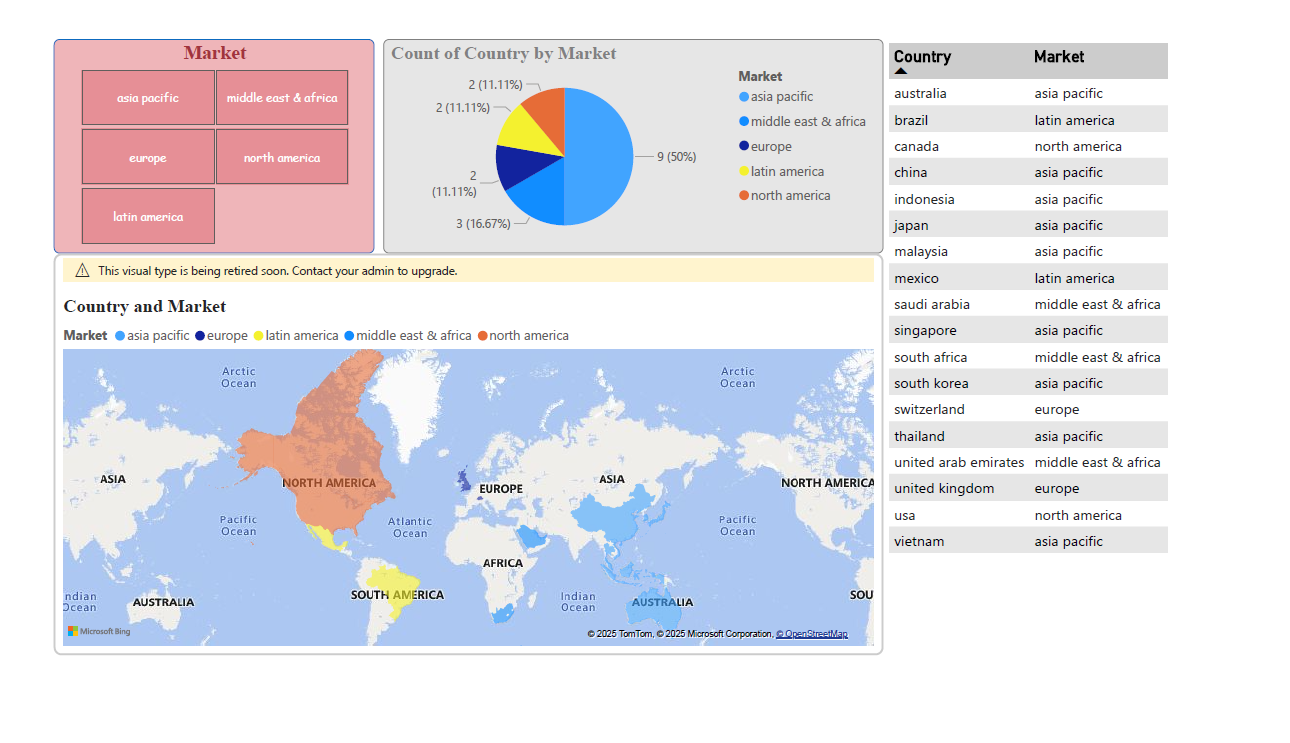

Layout of this report page (visuals, bound fields, positions):
{"tool":"powerbi","page":{"name":"Market Information","canvas":[1280,720],"ordinal":2},"visuals":[{"type":"tableEx","fields":{"Values":["country.country","country.market"]},"box":[881.7,15.9,305.7,549.1],"z":0},{"type":"slicer","title":"Market","fields":{"Values":["country.market"]},"box":[30.6,15.9,328.9,220.1],"z":1000},{"type":"pieChart","title":"Count of Country by Market","fields":{"Category":["country.market"],"Y":["CountNonNull(country.country)"]},"box":[369.3,15.9,512.4,220.1],"z":2000},{"type":"filledMap","title":"Country and Market","fields":{"Category":["country.country"],"Series":["country.market"]},"box":[30.6,236,851.1,412.1],"z":3000}]}

Visuals, with their boxes in screenshot pixels (x1, y1, x2, y2), scaled from the page's 1280x720 canvas onto the 1290x743 screenshot:
tableEx - country.country x country.market: rect(889, 16, 1197, 583)
"Market" slicer: rect(31, 16, 362, 244)
"Count of Country by Market" pieChart: rect(372, 16, 889, 244)
"Country and Market" filledMap: rect(31, 244, 889, 669)
